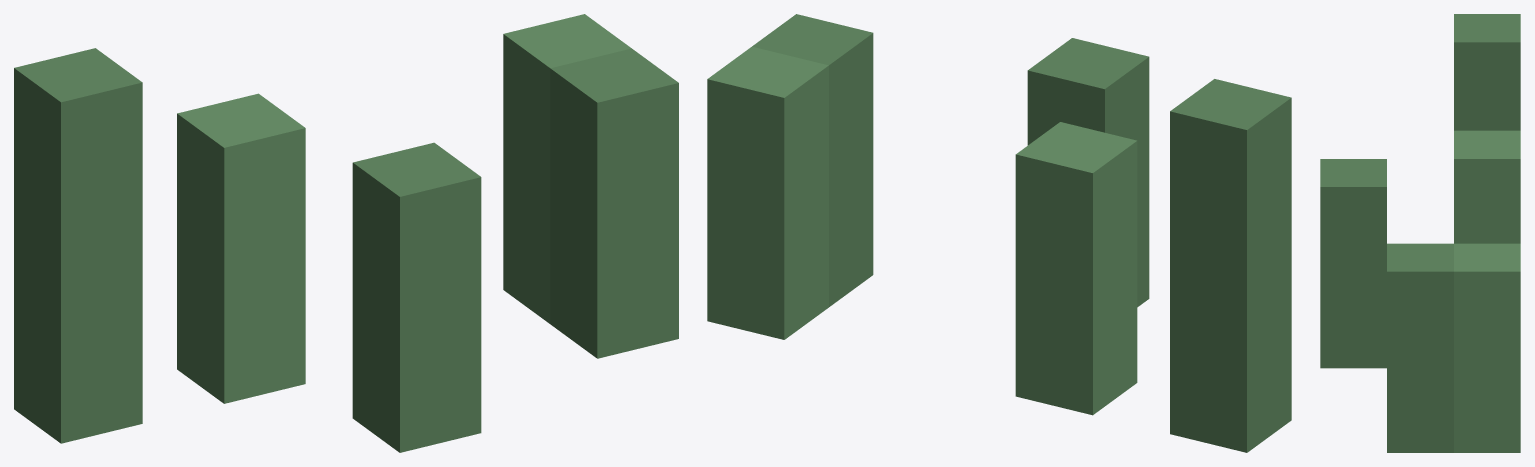
Rendered from enredadera_02.glb.
3 views of the same model, side by side, from view 1: azimuth 30°, elevation 25°; view 2: azimuth 150°, elevation 25°; view 3: azimuth 270°, elevation 25° (orthographic). The views are drawn at different scales.
Visible parts, largest first — view 1: enredadera_02; view 2: enredadera_02; view 3: enredadera_02.
Boxes of the visible parts, <box> form: enredadera_02: <box>14,14,678,452</box>; enredadera_02: <box>707,14,1291,452</box>; enredadera_02: <box>1320,14,1520,452</box>.
Bounding box in the file's own units: 0.7 × 0.4 × 0.3.
